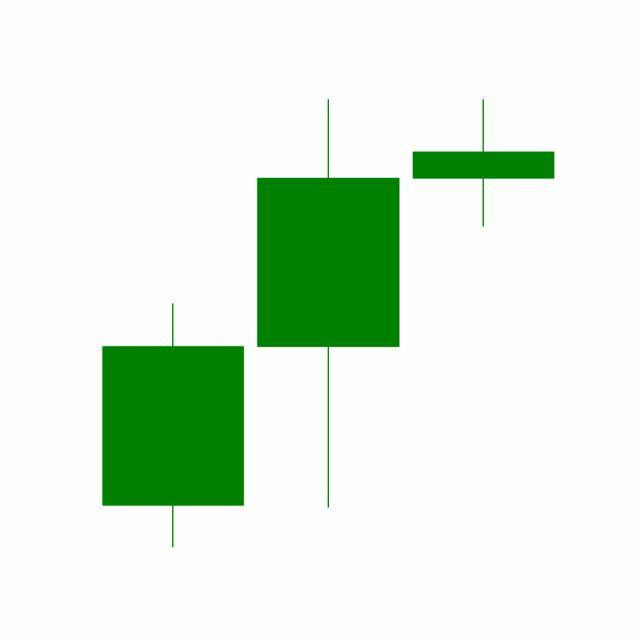Spinning Top: (406, 98, 562, 229)
